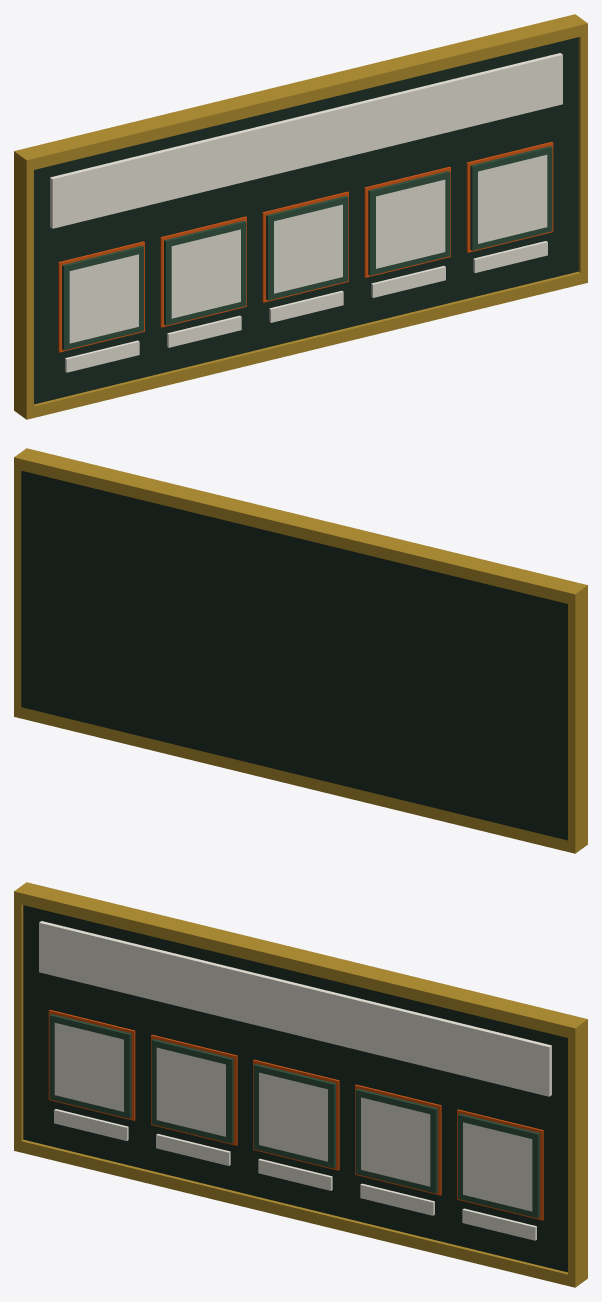
Rendered from contact-board.glb.
3 renders of one model, top to bottom at view 1: azimuth 30°, elevation 25°; view 2: azimuth 150°, elevation 25°; view 3: azimuth 330°, elevation 25°, orthographic.
Visible parts, largest first — view 1: board_back, headline_slot, frame_top, headline_plate, frame_bottom, frame_left, icon_slot_5, icon_slot_1, icon_slot_2, icon_slot_4, icon_slot_3, frame_right (+15 smaller); view 2: board_back, frame_top, frame_bottom, frame_left, frame_right; view 3: board_back, headline_slot, frame_top, headline_plate, frame_bottom, frame_right, icon_slot_1, icon_slot_4, icon_slot_5, icon_slot_2, icon_slot_3, frame_left (+15 smaller).
Boxes of the visible parts, left/top/right/bottom form: board_back: left=34, top=37, right=578, bottom=404; headline_slot: left=60, top=62, right=555, bottom=221; frame_top: left=15, top=14, right=587, bottom=170; headline_plate: left=50, top=53, right=562, bottom=228; frame_bottom: left=15, top=271, right=587, bottom=419; frame_left: left=14, top=149, right=33, bottom=419; icon_slot_5: left=478, top=155, right=547, bottom=243; icon_slot_1: left=69, top=254, right=138, bottom=343; icon_slot_2: left=171, top=229, right=240, bottom=318; icon_slot_4: left=376, top=179, right=445, bottom=268; icon_slot_3: left=274, top=204, right=342, bottom=293; frame_right: left=569, top=14, right=587, bottom=284; board_back: left=21, top=470, right=567, bottom=840; frame_top: left=14, top=448, right=587, bottom=605; frame_bottom: left=14, top=705, right=587, bottom=853; frame_left: left=568, top=584, right=587, bottom=853; frame_right: left=14, top=449, right=32, bottom=718; board_back: left=23, top=905, right=567, bottom=1272; headline_slot: left=46, top=930, right=541, bottom=1089; frame_top: left=14, top=882, right=587, bottom=1039; headline_plate: left=39, top=921, right=551, bottom=1096; frame_bottom: left=14, top=1139, right=587, bottom=1287; frame_right: left=568, top=1017, right=587, bottom=1287; icon_slot_1: left=54, top=1023, right=123, bottom=1111; icon_slot_4: left=361, top=1097, right=430, bottom=1186; icon_slot_5: left=463, top=1122, right=532, bottom=1211; icon_slot_2: left=156, top=1047, right=225, bottom=1136; icon_slot_3: left=259, top=1072, right=327, bottom=1161; frame_left: left=14, top=882, right=32, bottom=1152.
Size of the model in its own units: 1.54 by 0.68 by 0.0655.
